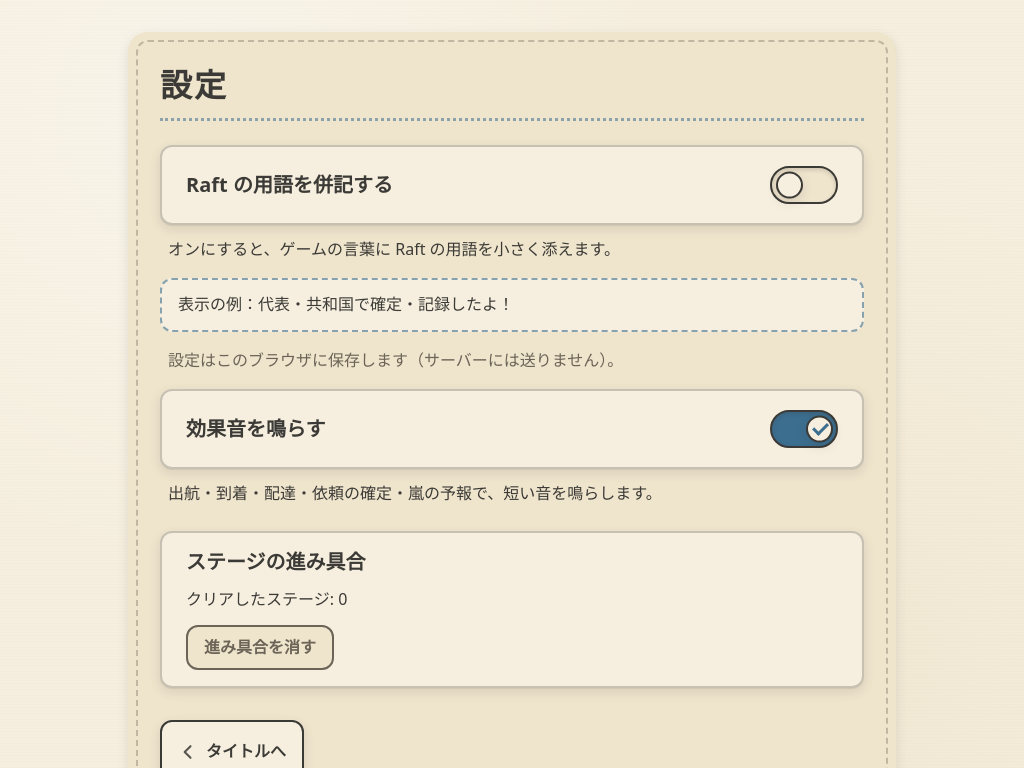
SettingsScreen › SE-2 切り替えて保存する
This screenshot has width=1024, height=768.
Click the checkbox labelled "Raft の用語を併記する". click: (804, 185)
box: [770,166,838,204]
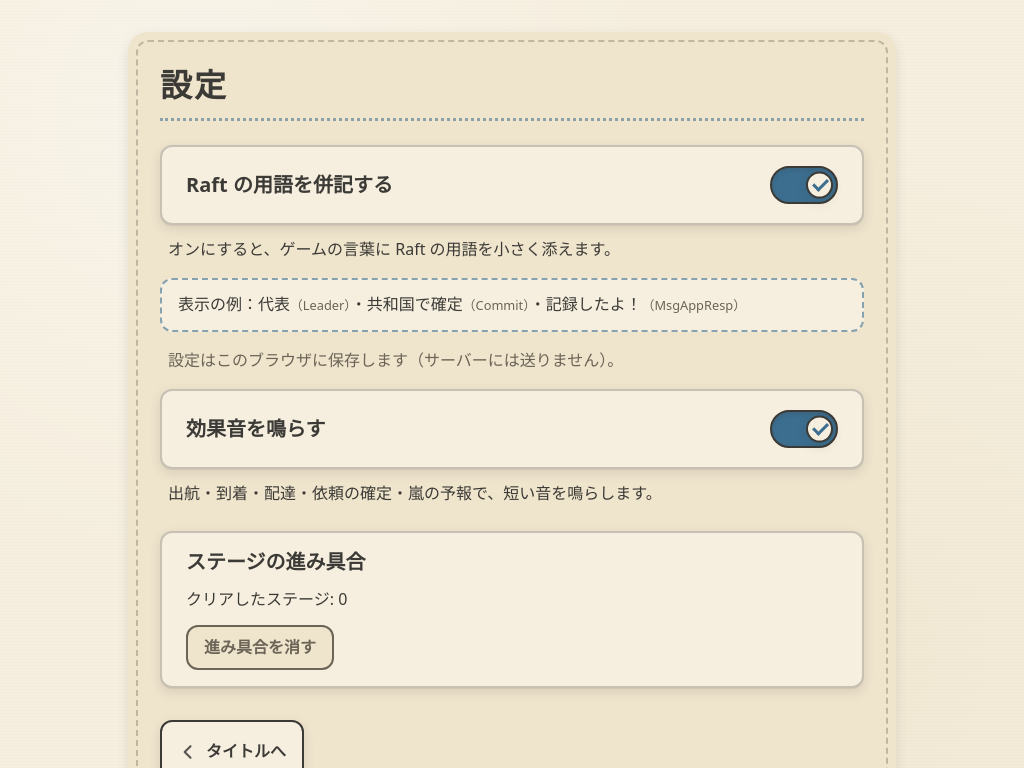
expect the checkbox labelled "Raft の用語を併記する" is checked: met
expect the element with class "settings-terms-example" reads "表示の例：代表（Leader）・共和国で確定（Commit）・記録したよ！（MsgAppResp）": met, box [160,278,864,332]
Click the checkbox labelled "Raft の用語を併記する". click: (804, 185)
box: [770,166,838,204]
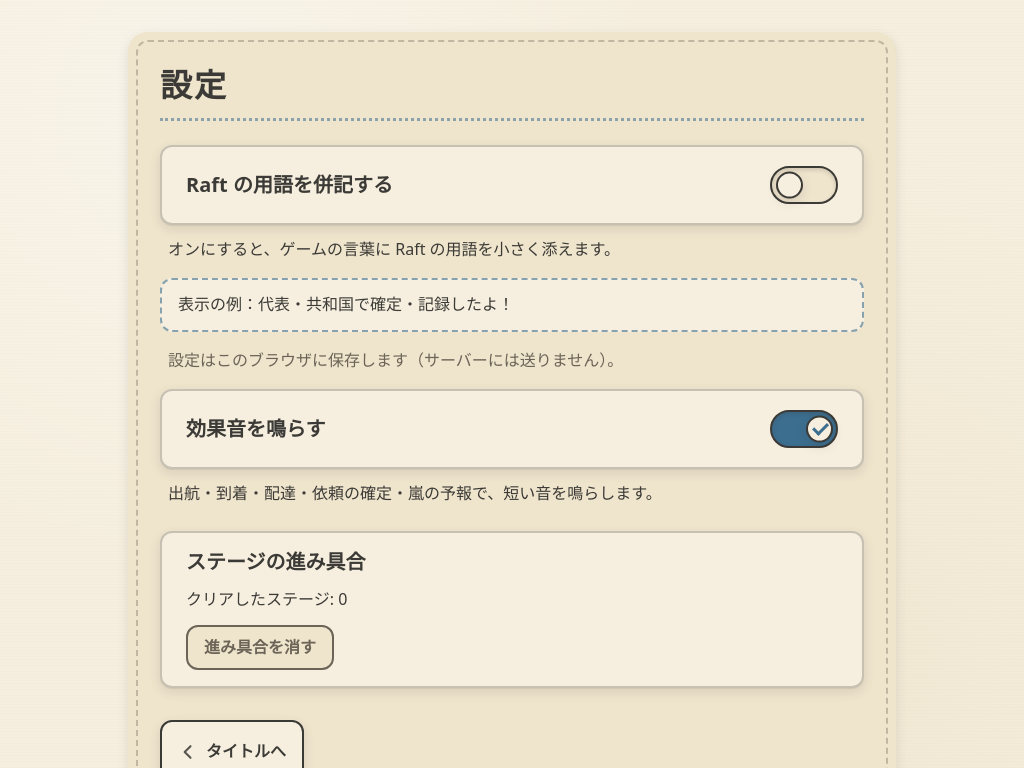
expect the checkbox labelled "Raft の用語を併記する" is not checked: met, box [770,166,838,204]
expect the text with class "settings-terms-example" reads "表示の例：代表・共和国で確定・記録したよ！": met, box [160,278,864,332]
